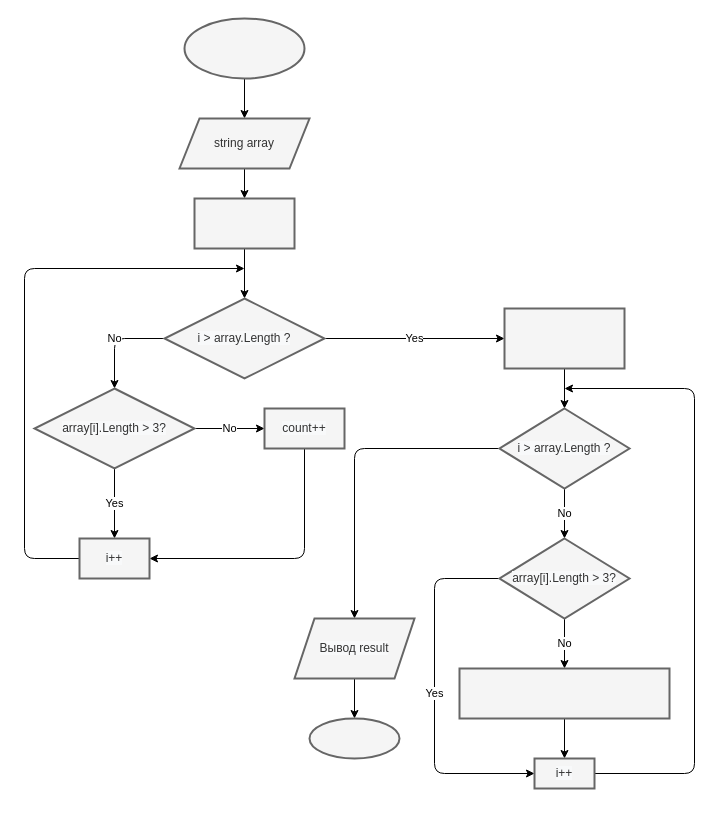
This 720x826 diagram has some shape labels left out. Here are the shapes that lost their labels. From the top down, the centre of each, then its label:
the point at 244,48: start
the point at 244,223: count = 0 i = 0
the point at 564,338: string[] result = new string[count] i = 0
the point at 564,693: result [result.Length - count ] = array[i] count--
the point at 354,738: End
